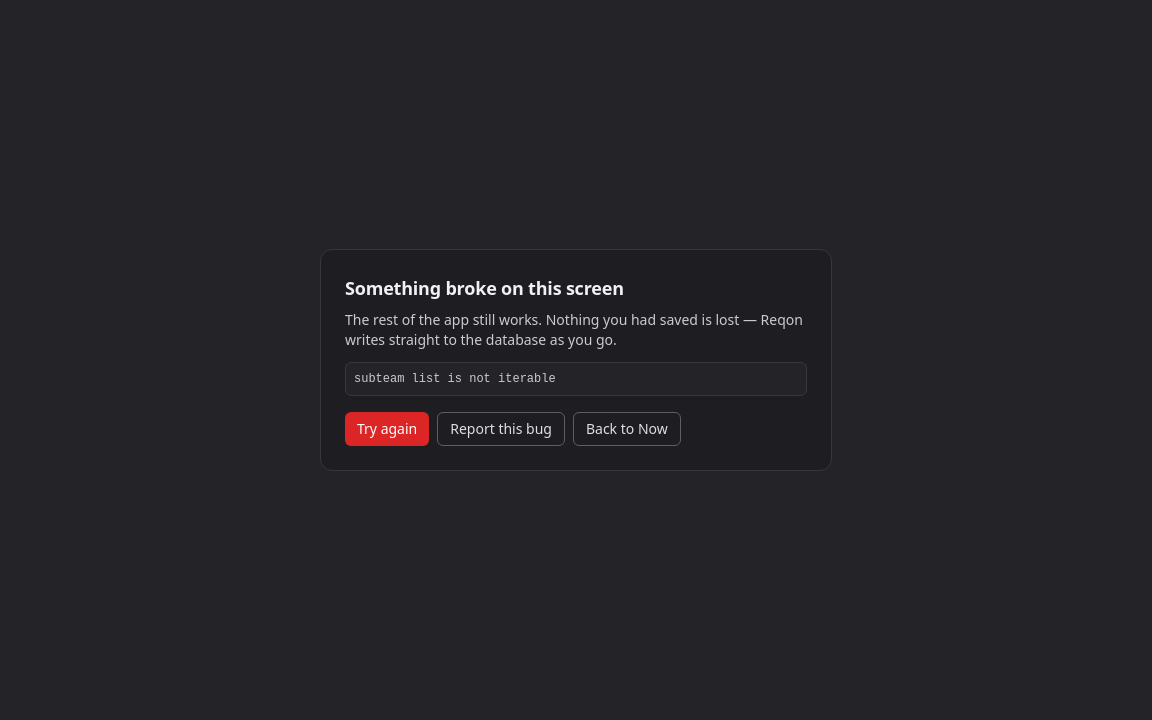
Test: a render crash › recovers when the underlying problem is gone
The width and height of the screenshot is (1152, 720).
Check: the heading "Something broke on this screen" is shown, box [345,276,624,300]
Click the button "Try again" at x=387, y=429, box [345,412,429,446]
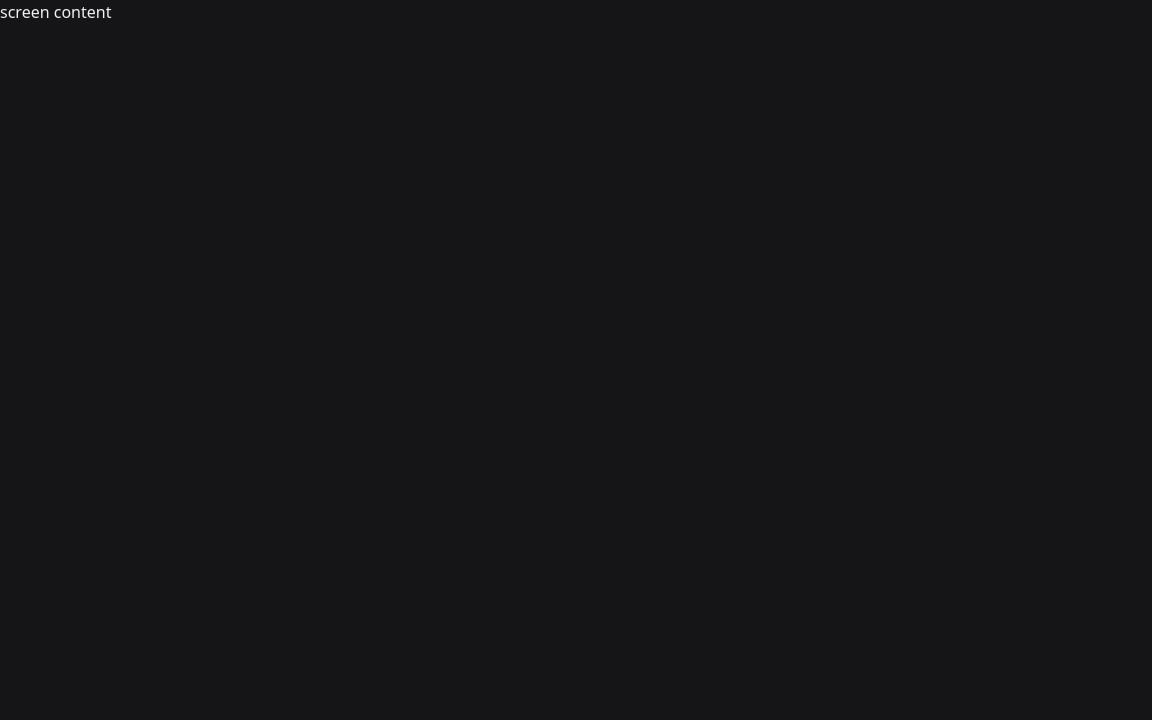
Check: the text "screen content" is shown, box [0,1,112,23]
